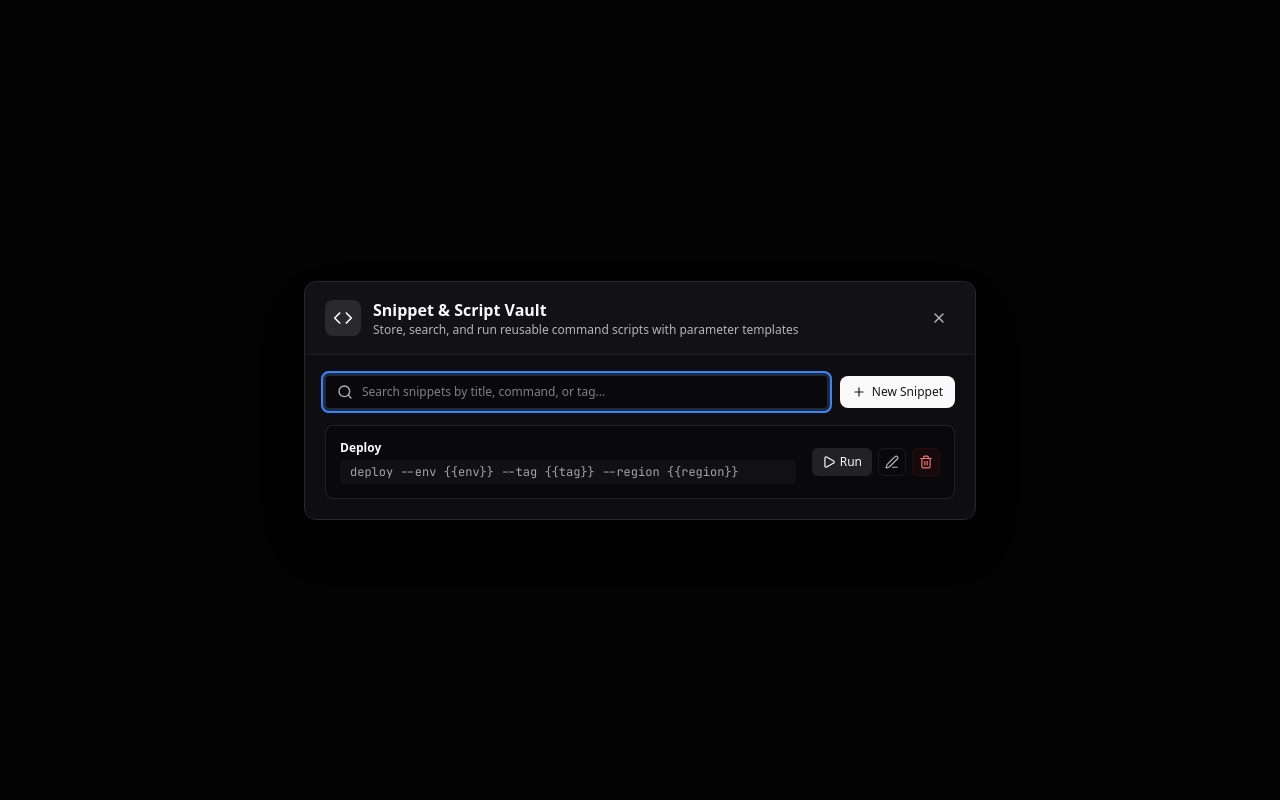
Scenario: SnippetVaultDialog — multi-variable run form › focuses only the first variable field, not the last
Click the button titled "Execute snippet": (842, 462) top-left (812, 448), bottom-right (872, 476)
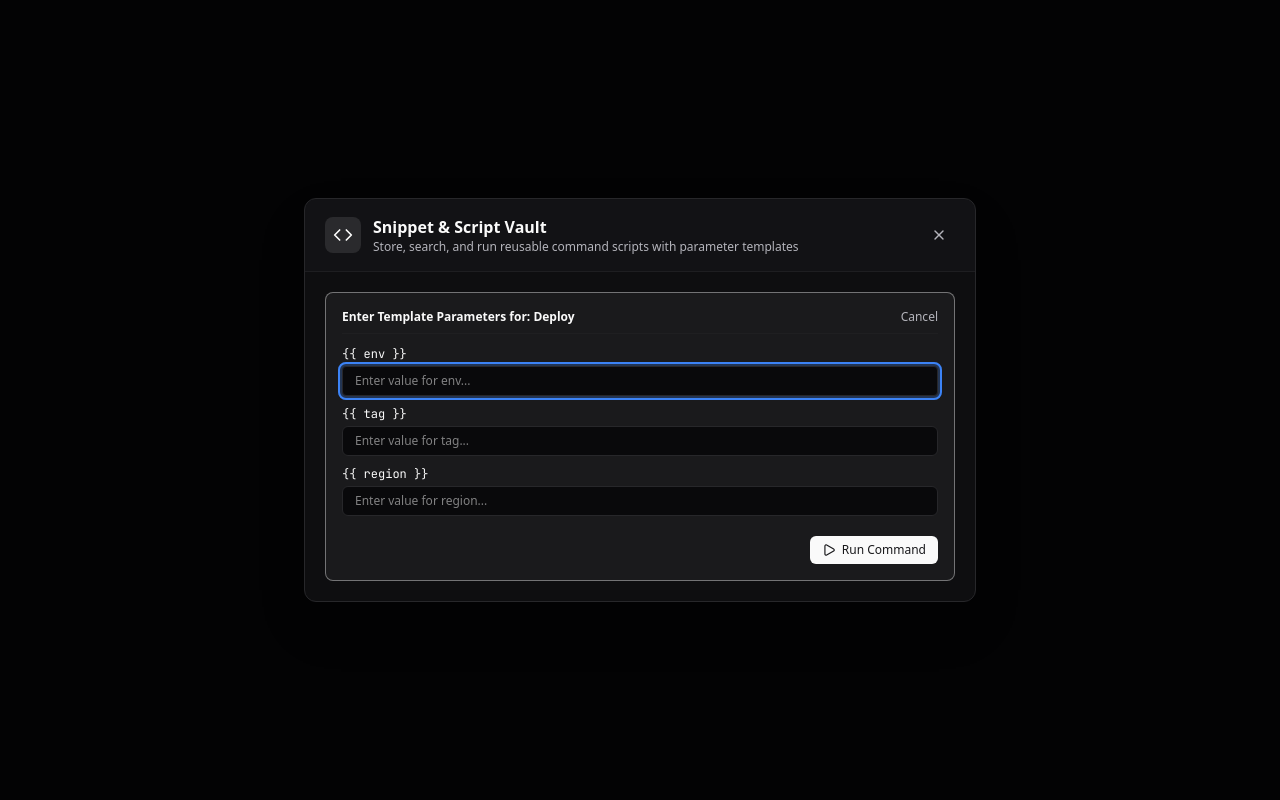
Check: the field labelled "{{ env }}" is shown, box top-left (342, 366), bottom-right (938, 396)
